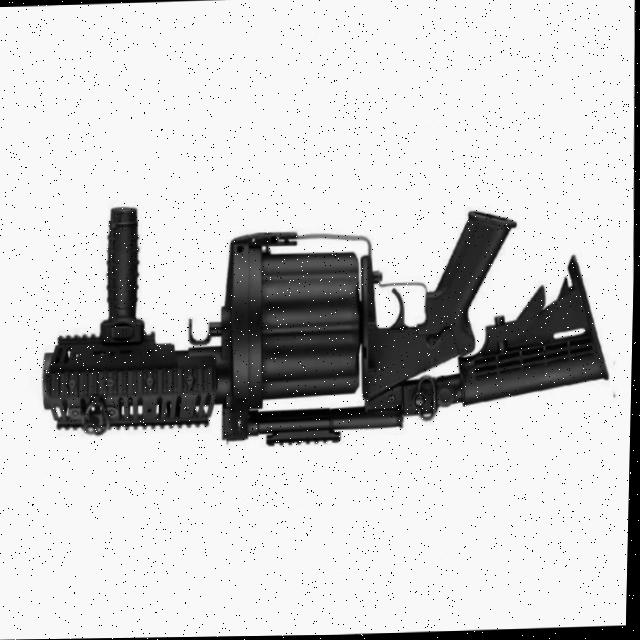rocket: (38, 191, 615, 453)
